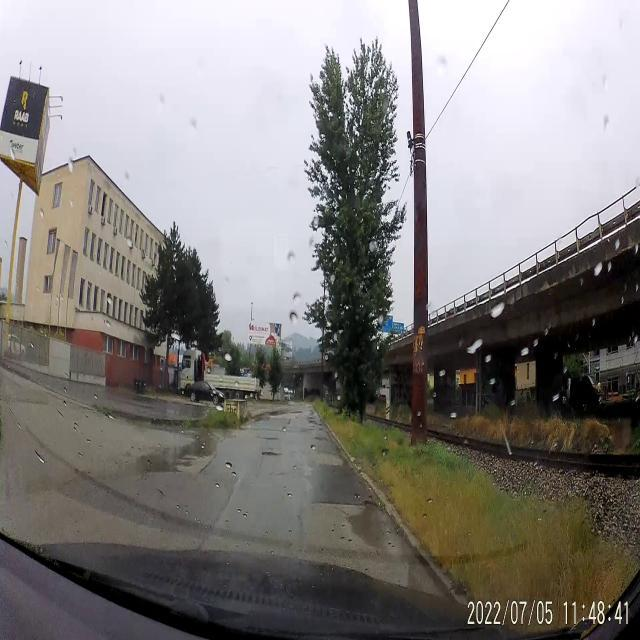Pothole: (347, 490, 395, 550), (259, 448, 284, 460), (306, 416, 326, 429), (256, 434, 281, 442), (314, 435, 329, 443), (288, 408, 302, 416)
